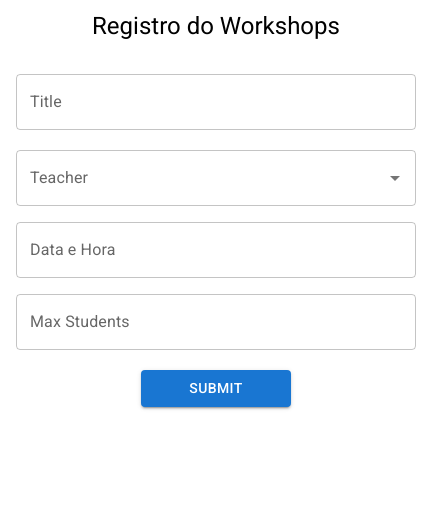
Test: WorkshopPage › deve limpar mensagens de erro ao digitar
Type "teste" into the field labelled "Max Students" at (216, 322), box [16,294,416,350]
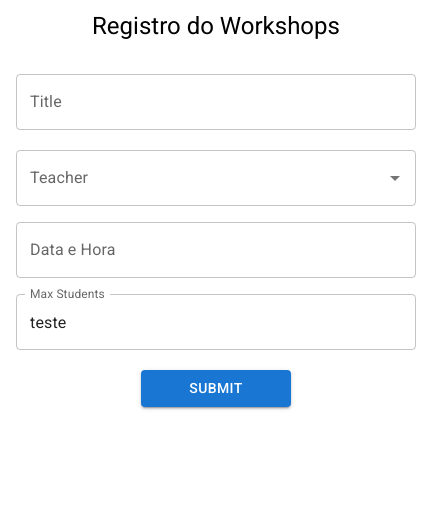
Click the button "Submit" at (216, 388), box [141,370,291,406]
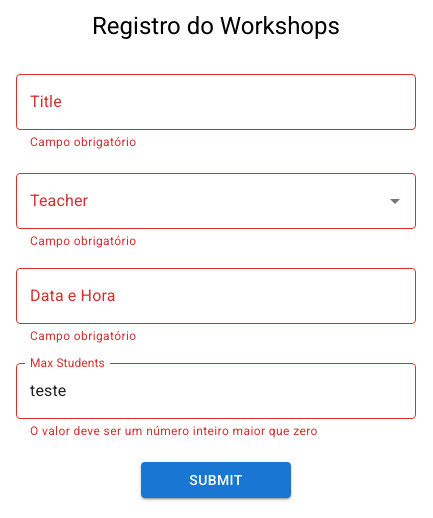
Expected: the text "O valor deve ser um número inteiro maior que zero" is shown, [30,424,318,438]
Replace the text in the field labelled "Max Students" with "10" at (216, 391), box [16,363,416,419]
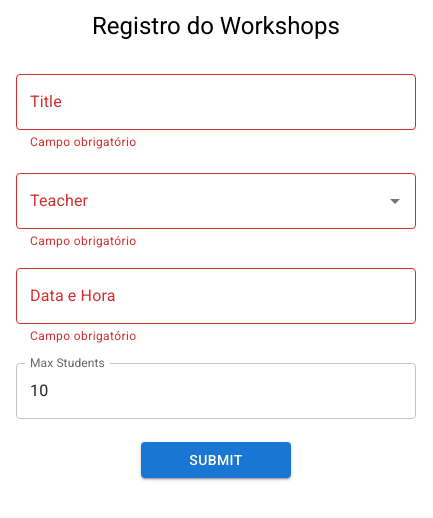
Expected: the text "O valor deve ser um número inteiro maior que zero" is gone
